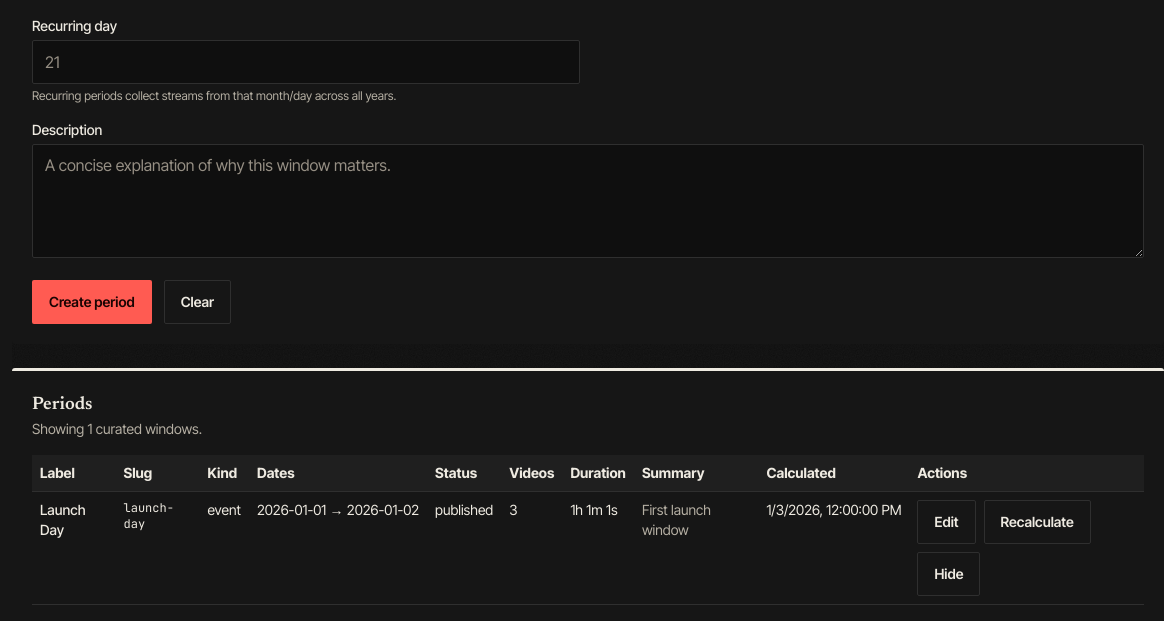
AdminArchivePeriods › announces validation and save failures without clearing the edit form
(page scrolled)
Expected: the text "Launch Day" is shown, [32,492,116,604]
Click the button "Edit" at x=947, y=522, box [918,500,976,544]
(page scrolled)
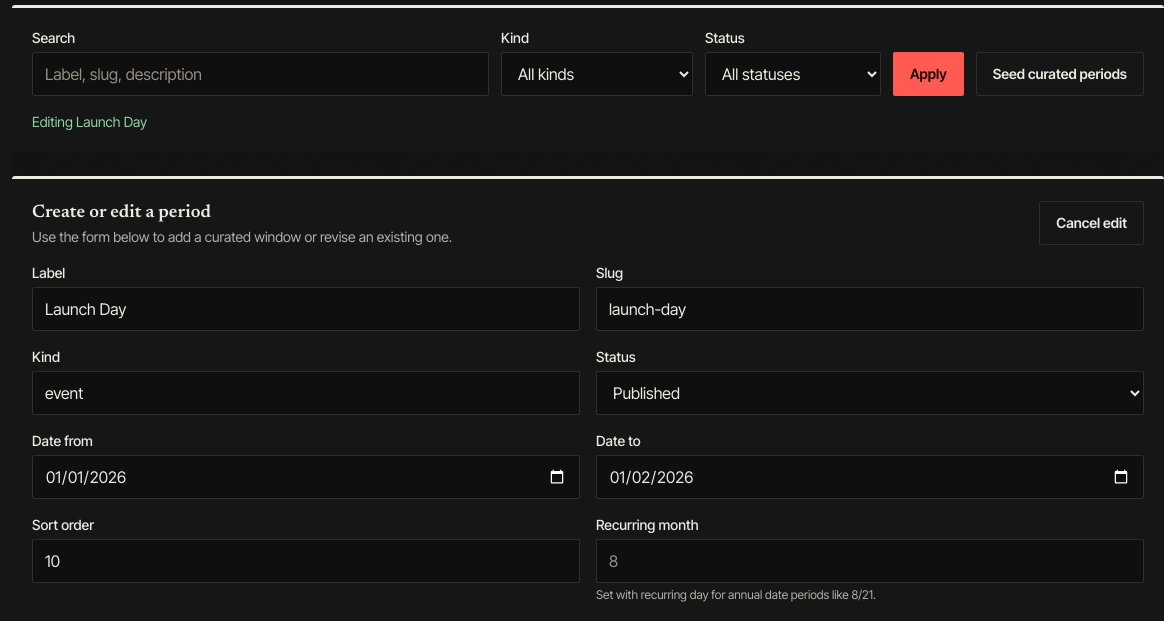
Replace the text in the field labelled "Label" with "Unsaved revision" at x=306, y=309, box [32,287,580,331]
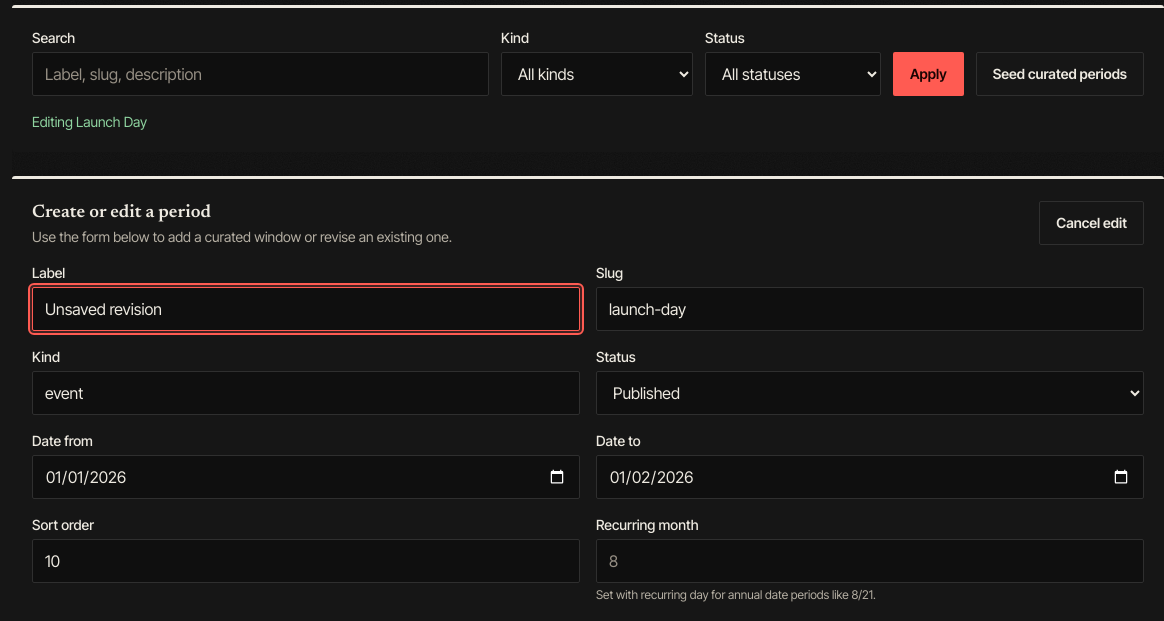
Type "12" into the number field labelled "Recurring month" at x=870, y=561, box [596,539,1144,583]
(page scrolled)
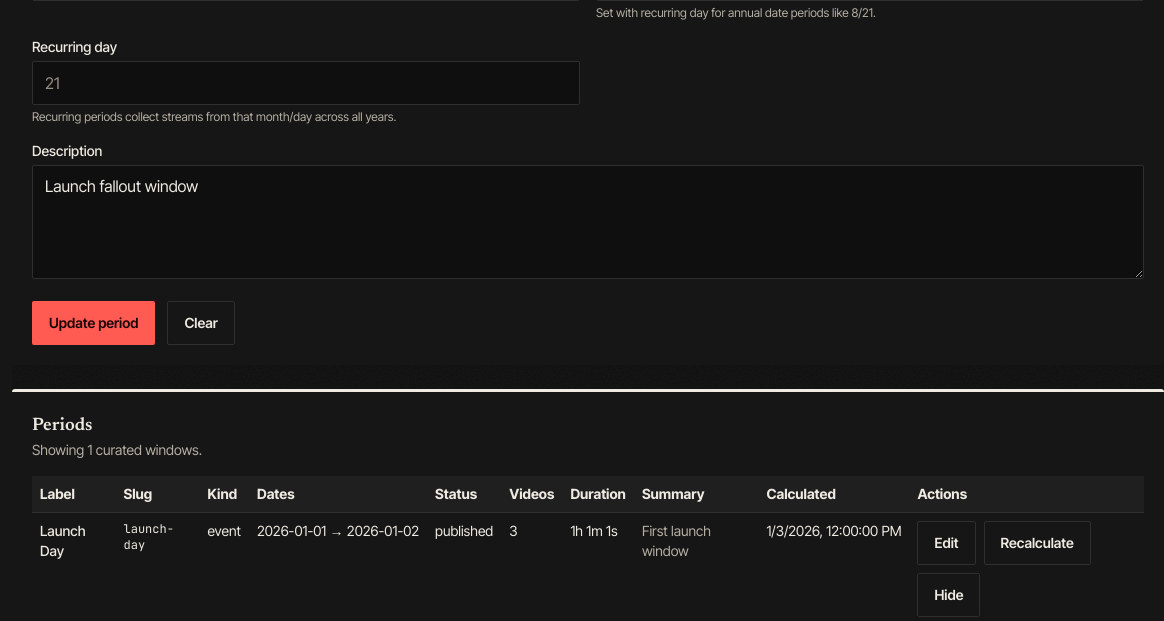
Click the button "Update period" at x=94, y=323, box [32,301,155,345]
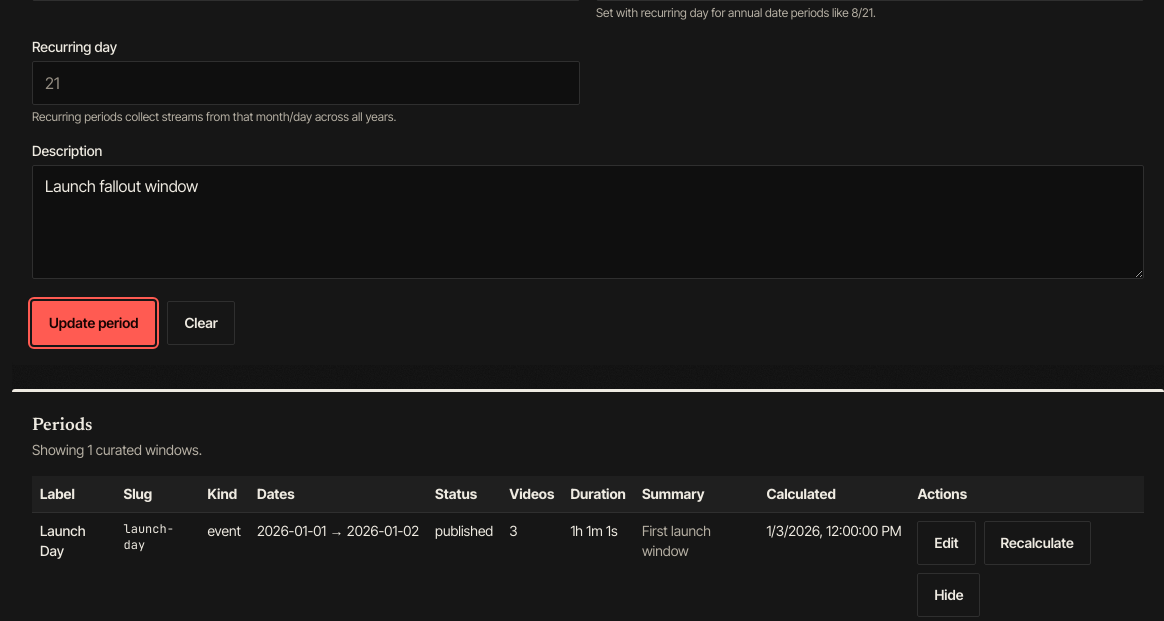
Type "25" into the number field labelled "Recurring day" at x=306, y=83, box [32,61,580,105]
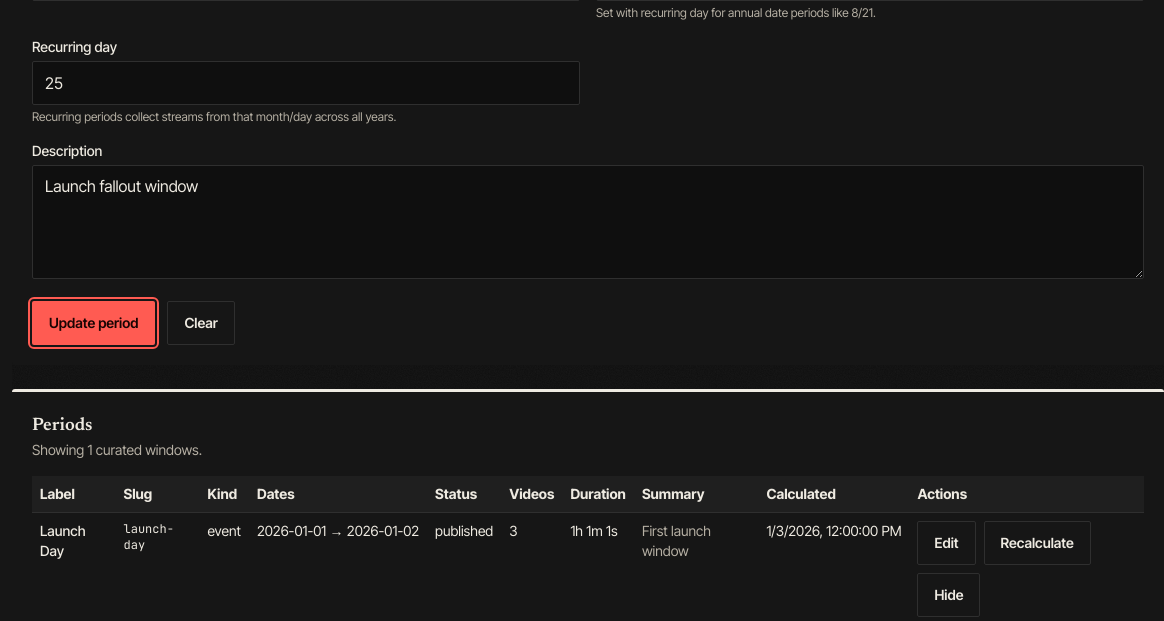
Click the button "Update period" at x=94, y=323, box [32,301,155,345]
(page scrolled)
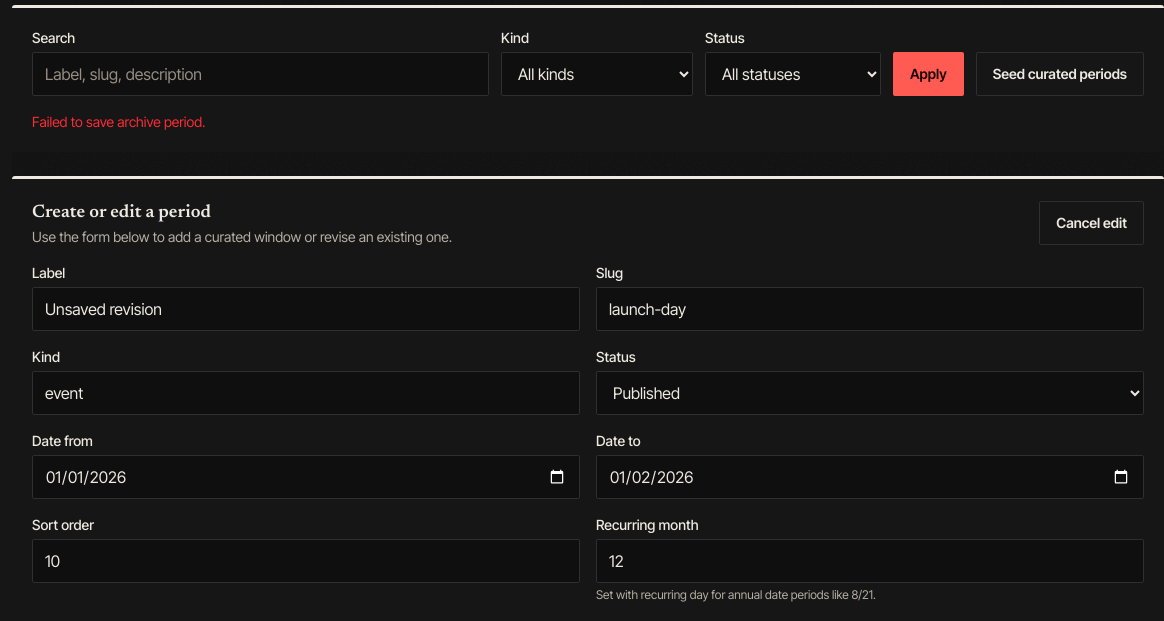
Expected: the message reads "Failed to save archive period.", [32,113,205,130]
